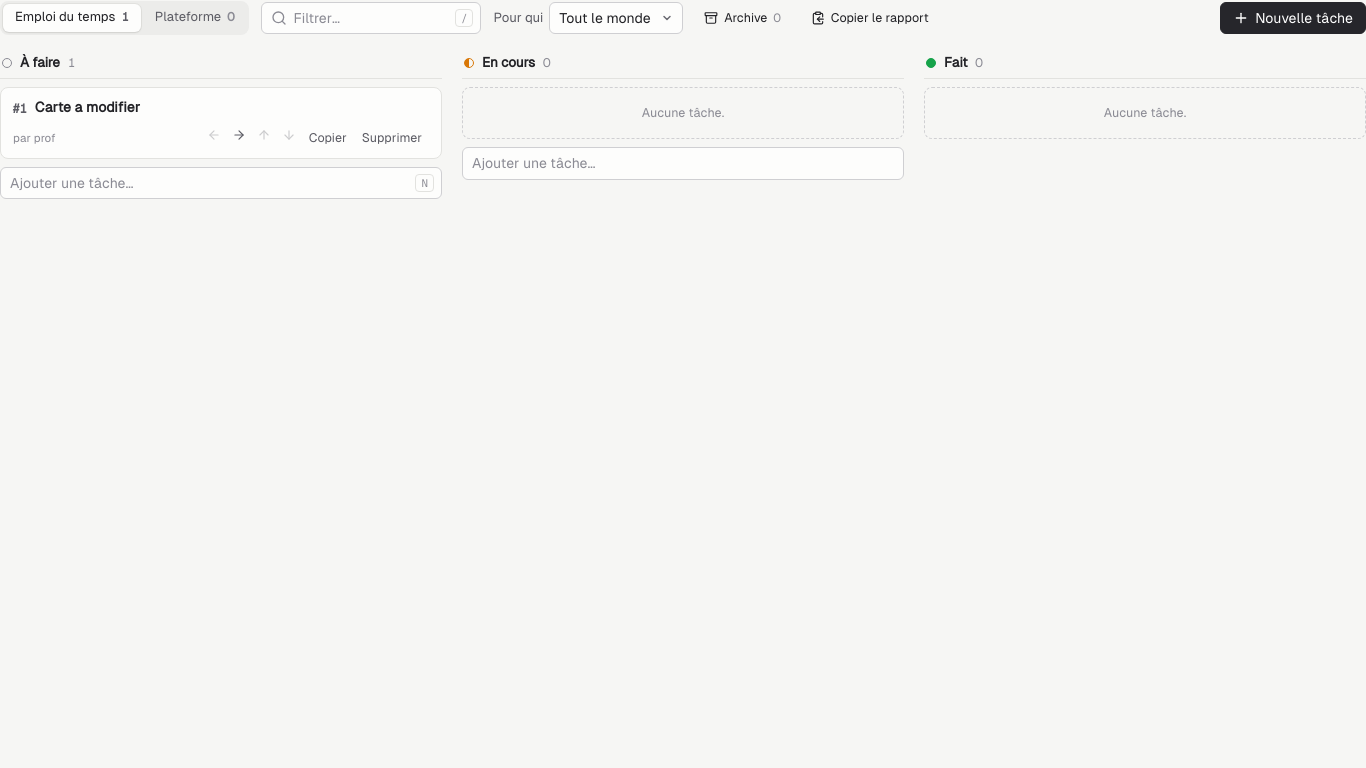
Test case: KanbanView › opens the edit form when the card title is clicked
Click the button with aria-label "Modifier « Carte a modifier »": point(87, 107) [35,98,429,117]
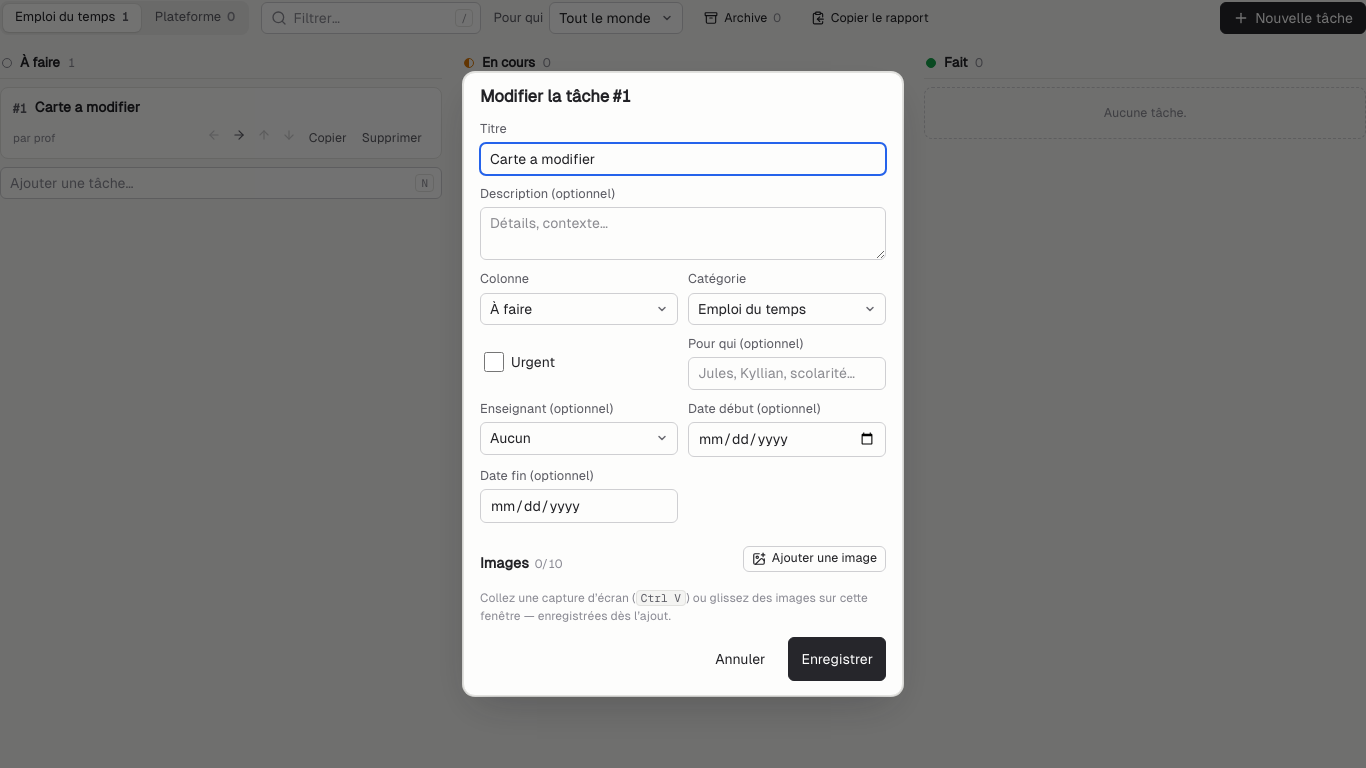
Now the dialog is shown, box [463,72,903,696]
